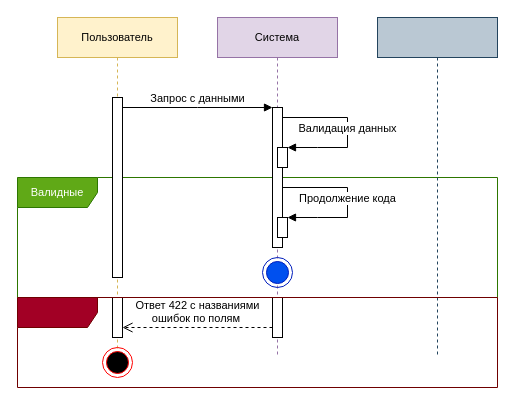
Image size: 515x405. Some labels were removed from this diagram. Here are the shapes that lost their labels. From the top down, the box of each, then its label:
(376, 16, 498, 358): Компонент
(16, 296, 498, 388): Невалидные
